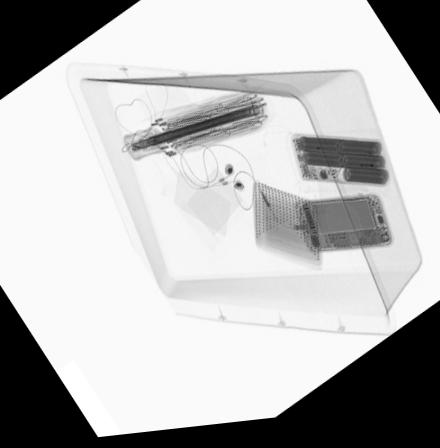Powerbank: (292, 145, 389, 196)
